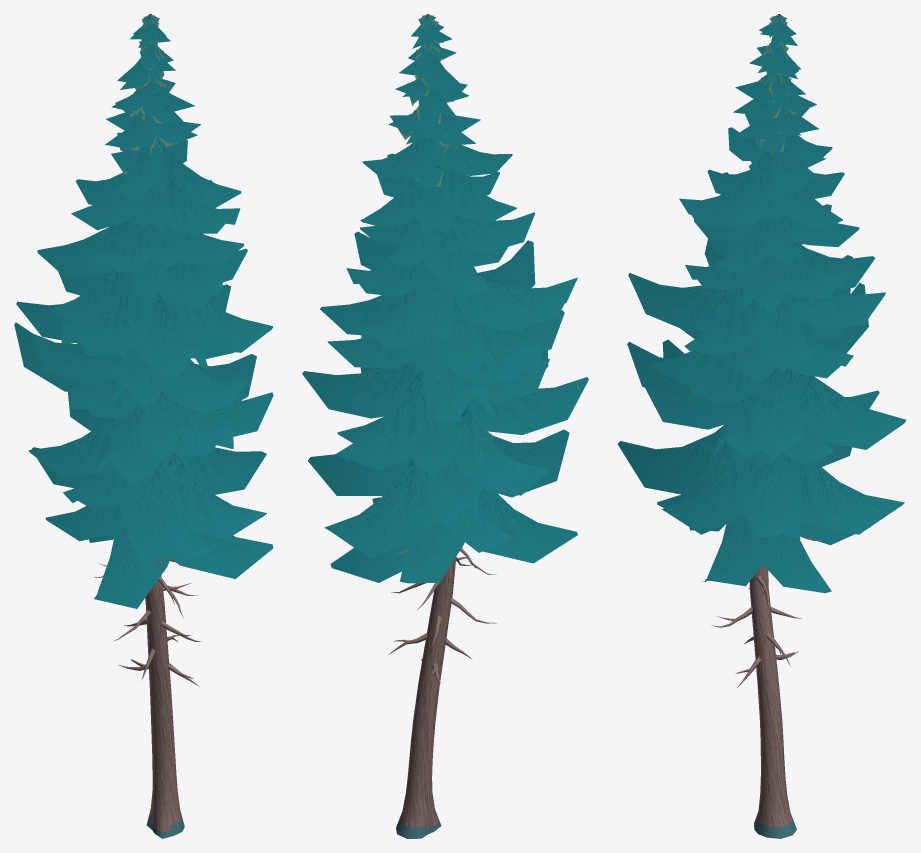
3 views of the same model, side by side, from view 1: azimuth 30°, elevation 25°; view 2: azimuth 150°, elevation 25°; view 3: azimuth 270°, elevation 25° (orthographic).
Visible parts, largest first — view 1: submesh_1, submesh_0; view 2: submesh_1, submesh_0; view 3: submesh_1, submesh_0.
Boxes of the visible parts, x1,y1,x2,y2 form: submesh_1: [14, 14, 273, 608]; submesh_0: [94, 14, 201, 838]; submesh_1: [302, 15, 588, 583]; submesh_0: [388, 14, 496, 838]; submesh_1: [617, 14, 906, 593]; submesh_0: [701, 14, 821, 838].
Bounding box in the file's own units: 5.23 × 17.34 × 5.61.
2 materials, 2 textured.
